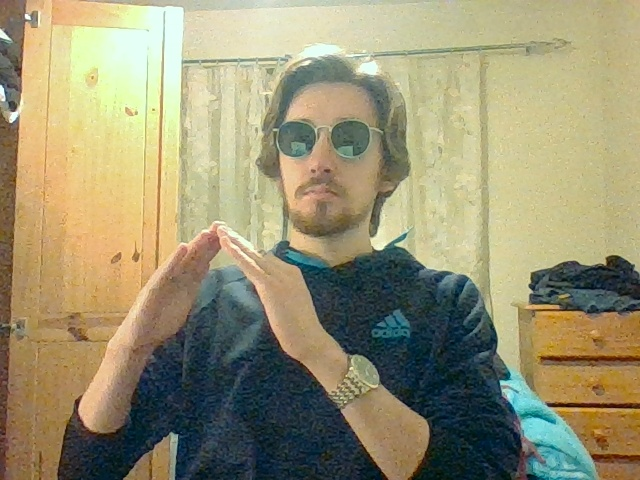home: (149, 221, 307, 310)
